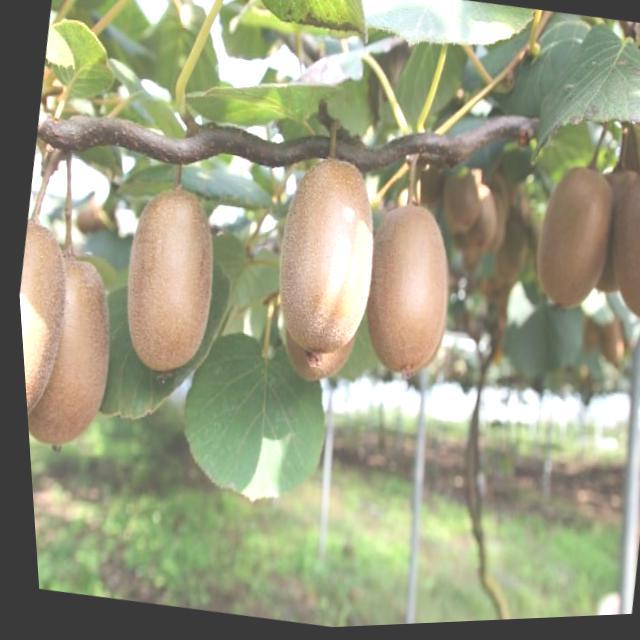kiwi: (256, 149, 389, 358), (104, 181, 228, 385), (14, 243, 127, 459), (344, 202, 464, 386), (13, 214, 85, 446), (519, 164, 621, 321), (586, 164, 640, 335)
